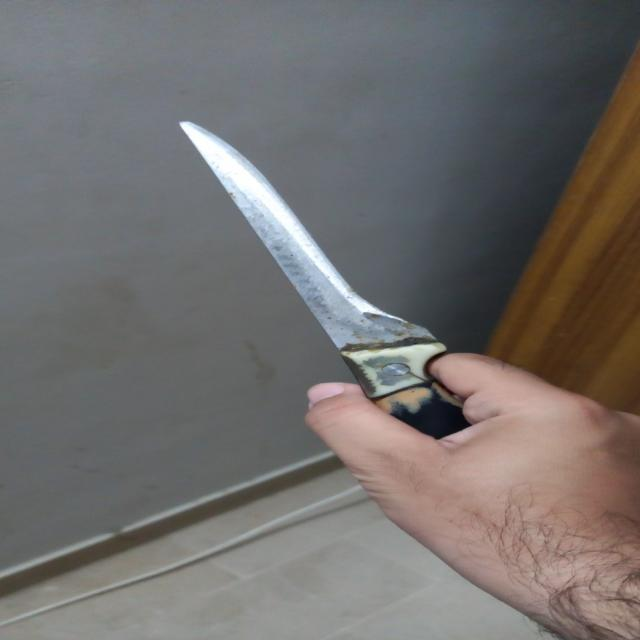knife: (167, 109, 540, 505)
